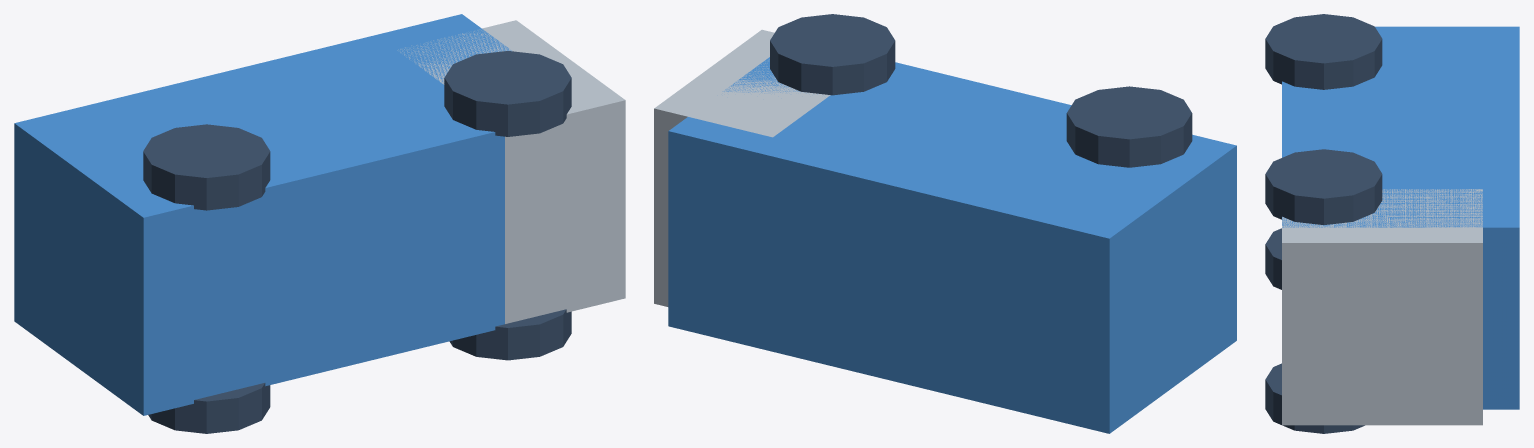
Rendered from truck.glb.
3 renders of one model, left to right at view 1: azimuth 30°, elevation 25°; view 2: azimuth 150°, elevation 25°; view 3: azimuth 270°, elevation 25°, orthographic. The views are drawn at different scales.
Parts seen in each view (by area): view 1: body, cab, wheel.001, wheel.003, wheel, wheel.002; view 2: body, cab, wheel.001, wheel.003; view 3: cab, body, wheel.001, wheel.003, wheel.002, wheel.
Part boxes in pixels (left/top/right/bottom): body: left=14, top=14, right=511, bottom=415; cab: left=397, top=20, right=625, bottom=323; wheel.001: left=143, top=124, right=270, bottom=210; wheel.003: left=444, top=51, right=571, bottom=136; wheel: left=148, top=383, right=270, bottom=433; wheel.002: left=449, top=309, right=571, bottom=360; body: left=668, top=57, right=1236, bottom=433; cab: left=654, top=29, right=830, bottom=306; wheel.001: left=1066, top=86, right=1192, bottom=167; wheel.003: left=770, top=14, right=895, bottom=95; cab: left=1282, top=189, right=1482, bottom=425; body: left=1282, top=26, right=1519, bottom=409; wheel.001: left=1265, top=14, right=1382, bottom=89; wheel.003: left=1265, top=149, right=1382, bottom=224; wheel.002: left=1265, top=363, right=1364, bottom=433; wheel: left=1265, top=228, right=1281, bottom=289.
Size of the model in its own units: 2.8 by 1.42 by 1.39.
